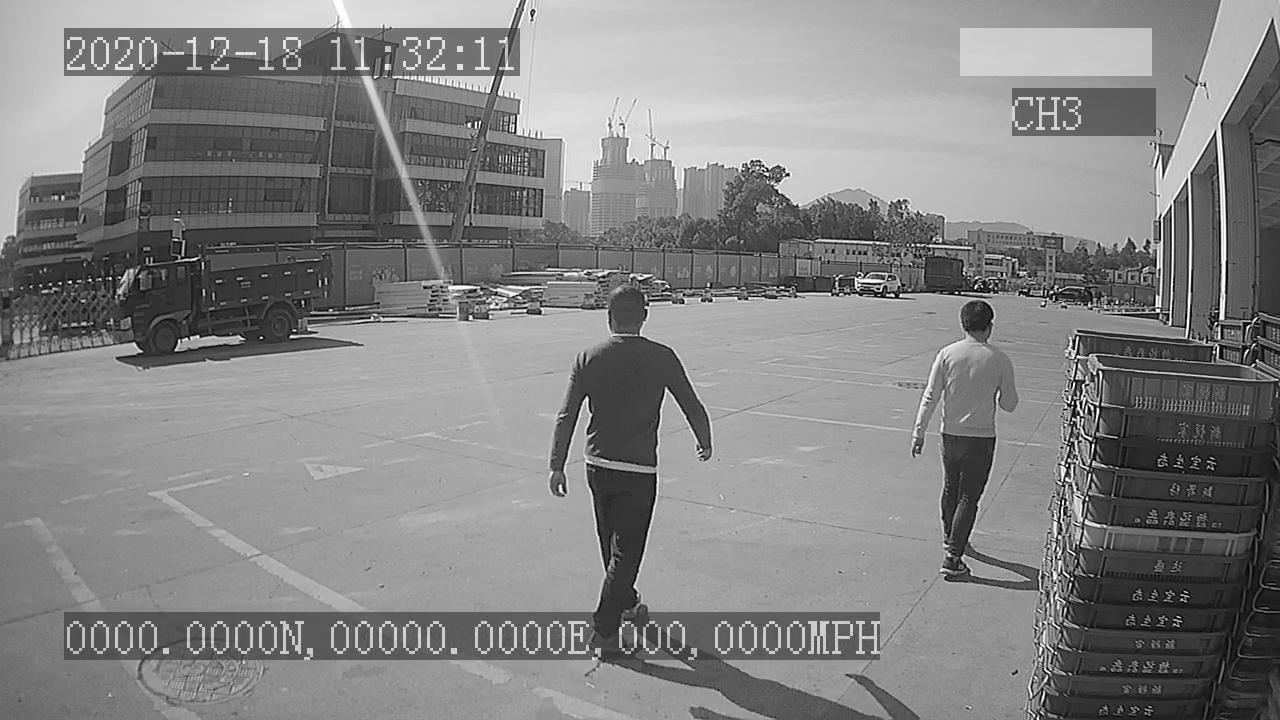person: (908, 296, 1019, 581)
